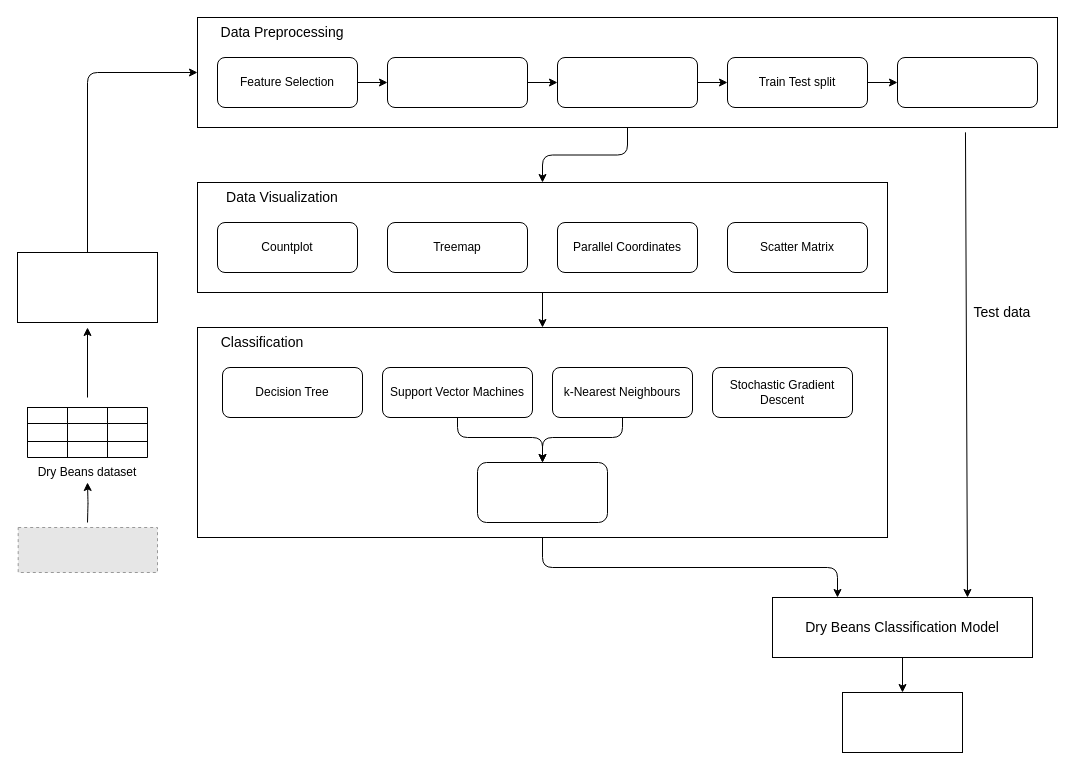
The diagram is 1075 pixels wide and 770 high, and some of its shapes have lost their labels. Grey dashed boxes stand in for pictures. The box of each missing label's shape, as (x1, y1, x2, y2) in pixels:
Data Normalization: (896, 56, 1038, 108)
Exploratory Data Analysis: (16, 252, 158, 322)
Handling null values: (386, 56, 528, 108)
Handling outliers: (556, 56, 698, 108)
Results: (842, 692, 962, 752)
Voting Ensemble: (476, 462, 608, 522)
